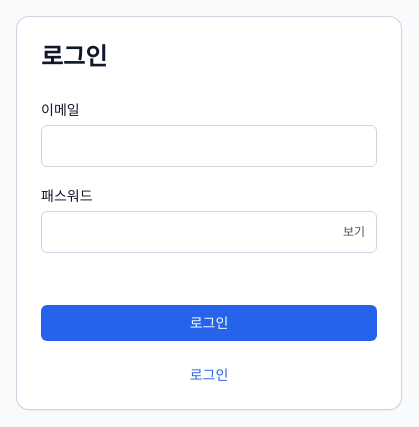
Test case: AuthForm › 서버 오류 메시지를 alert로 알린다 (FR-6)
The width and height of the screenshot is (419, 427).
Type "a@test.local" into the field labelled "이메일". click: (209, 146)
box: [41,125,377,167]
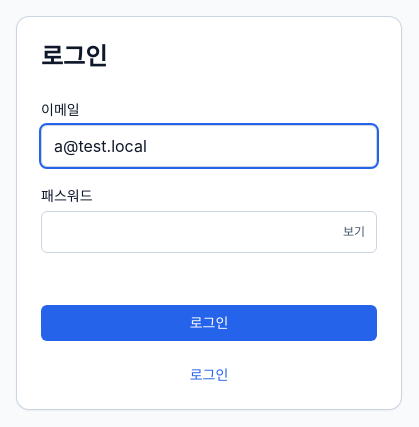
Type "wrong" into the password field labelled "패스워드". click: (209, 232)
box: [41,211,377,253]
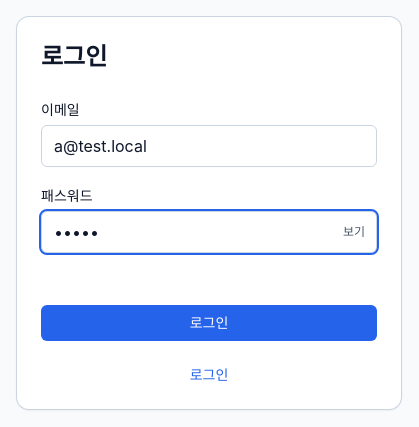
Click the button "로그인". click: (209, 323)
box: [41,305,377,341]
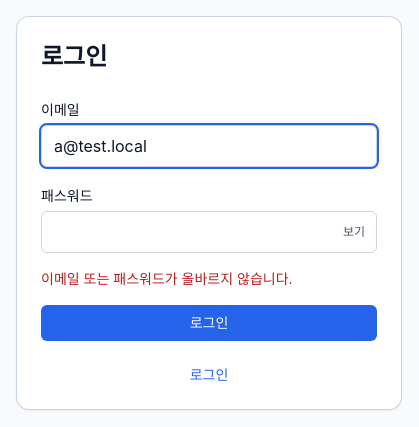
Expected: the message reads "이메일 또는 패스워드가 올바르지 않습니다.", [41,270,293,287]
